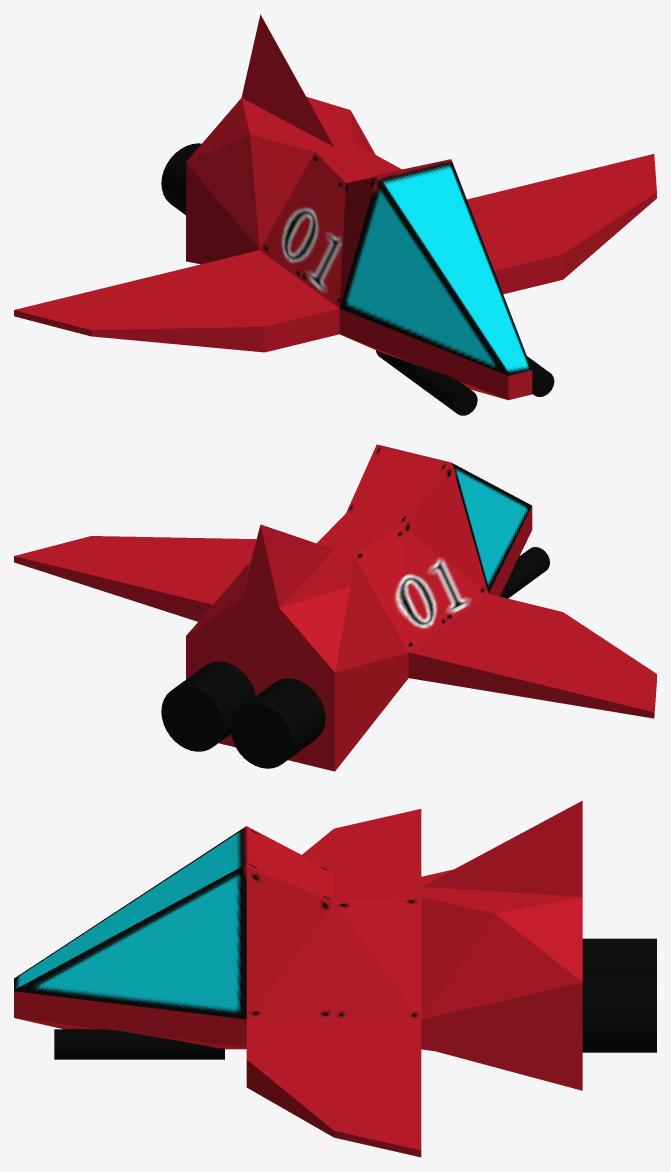
Rendered from player.obj.
3 renders of one model, top to bottom at view 1: azimuth 30°, elevation 25°; view 2: azimuth 150°, elevation 25°; view 3: azimuth 270°, elevation 25°, orthographic. The views are drawn at different scales.
Visible parts, largest first — view 1: 立方体; view 2: 立方体; view 3: 立方体.
Part boxes in pixels (x1=…): 立方体: x1=14, y1=14, x2=656, y2=415; 立方体: x1=14, y1=444, x2=656, y2=771; 立方体: x1=14, y1=800, x2=656, y2=1157.
Bounding box in the file's own units: 2.44 × 0.8334 × 1.94.
Materials: 1 (1 with a texture image).
